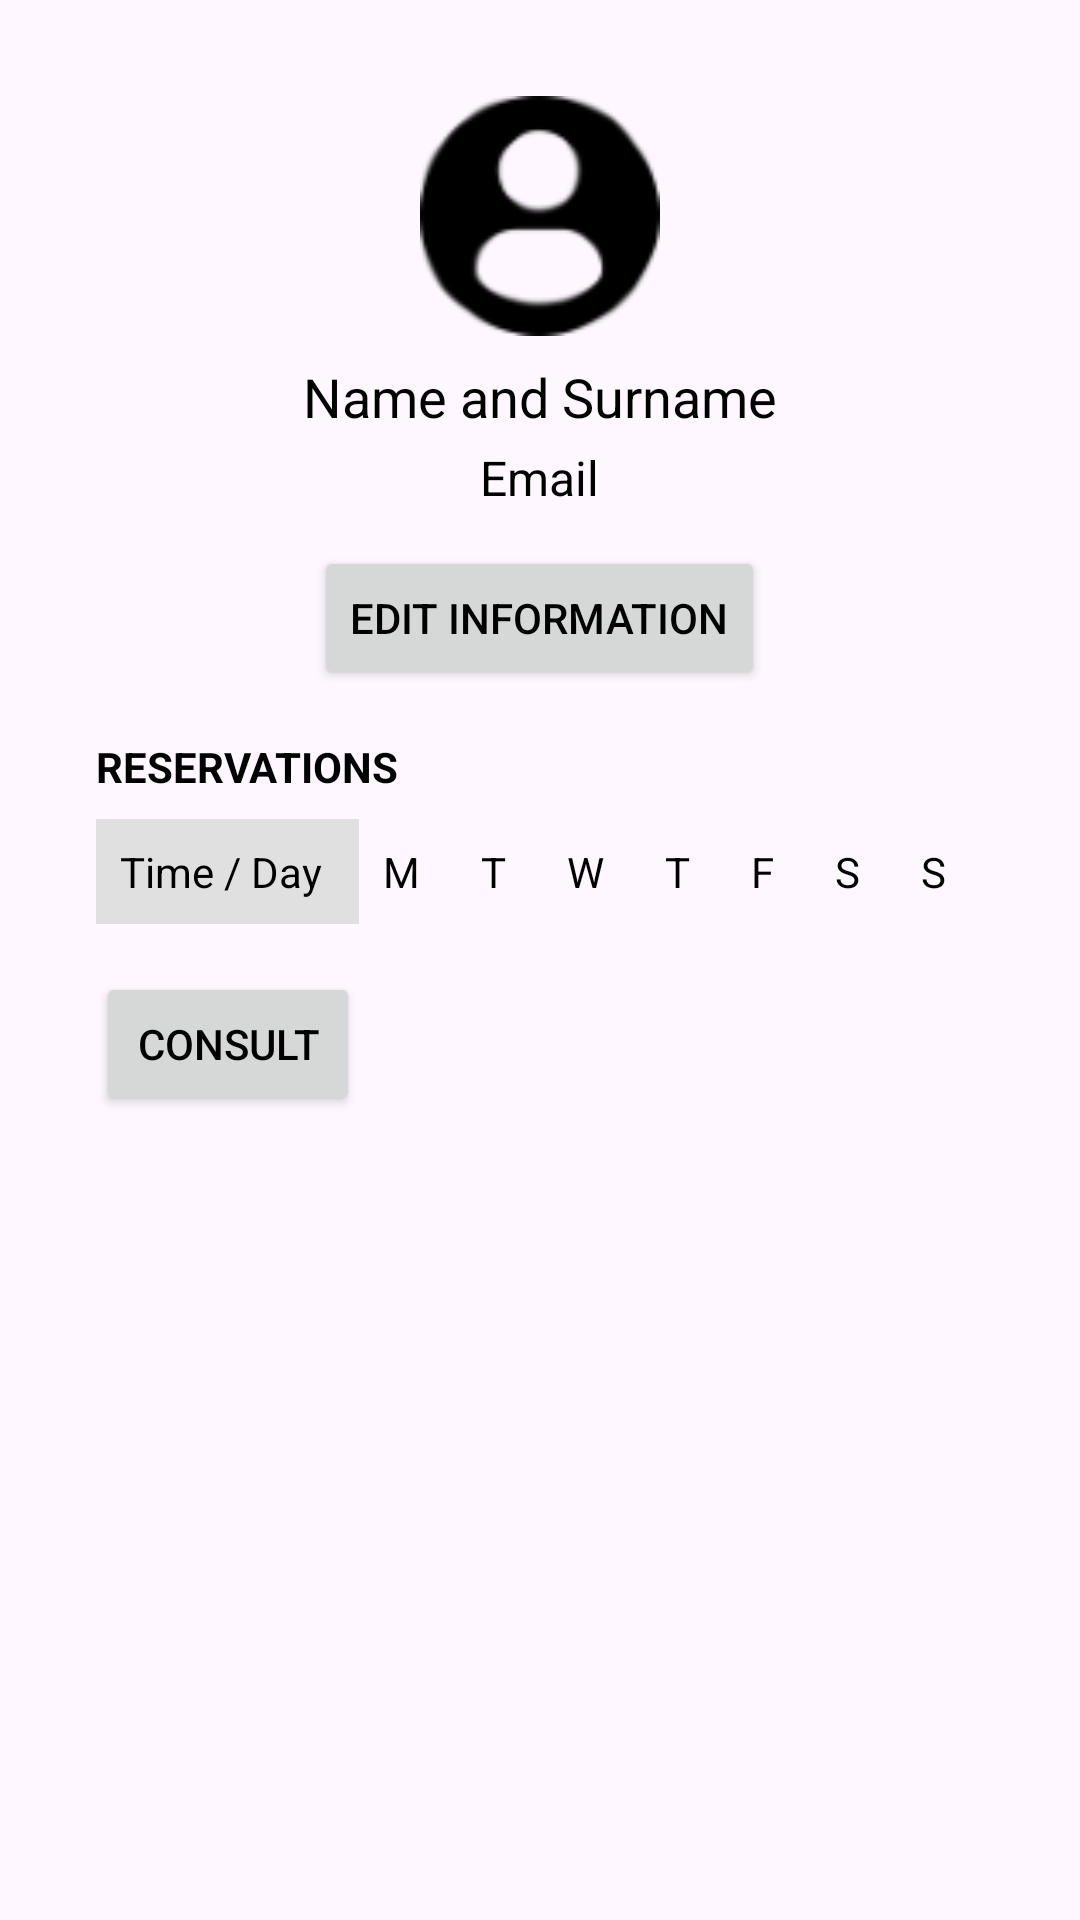

Named icons in this screenshot (1080 × 1920) and their centers, [x,y]:
Profile Image: [540,216]
